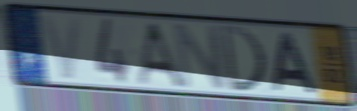4: (94, 16, 132, 86)
A: (134, 20, 188, 89), (272, 31, 320, 96)
D: (219, 23, 270, 95)
N: (172, 21, 229, 91)
V: (38, 12, 83, 82)
